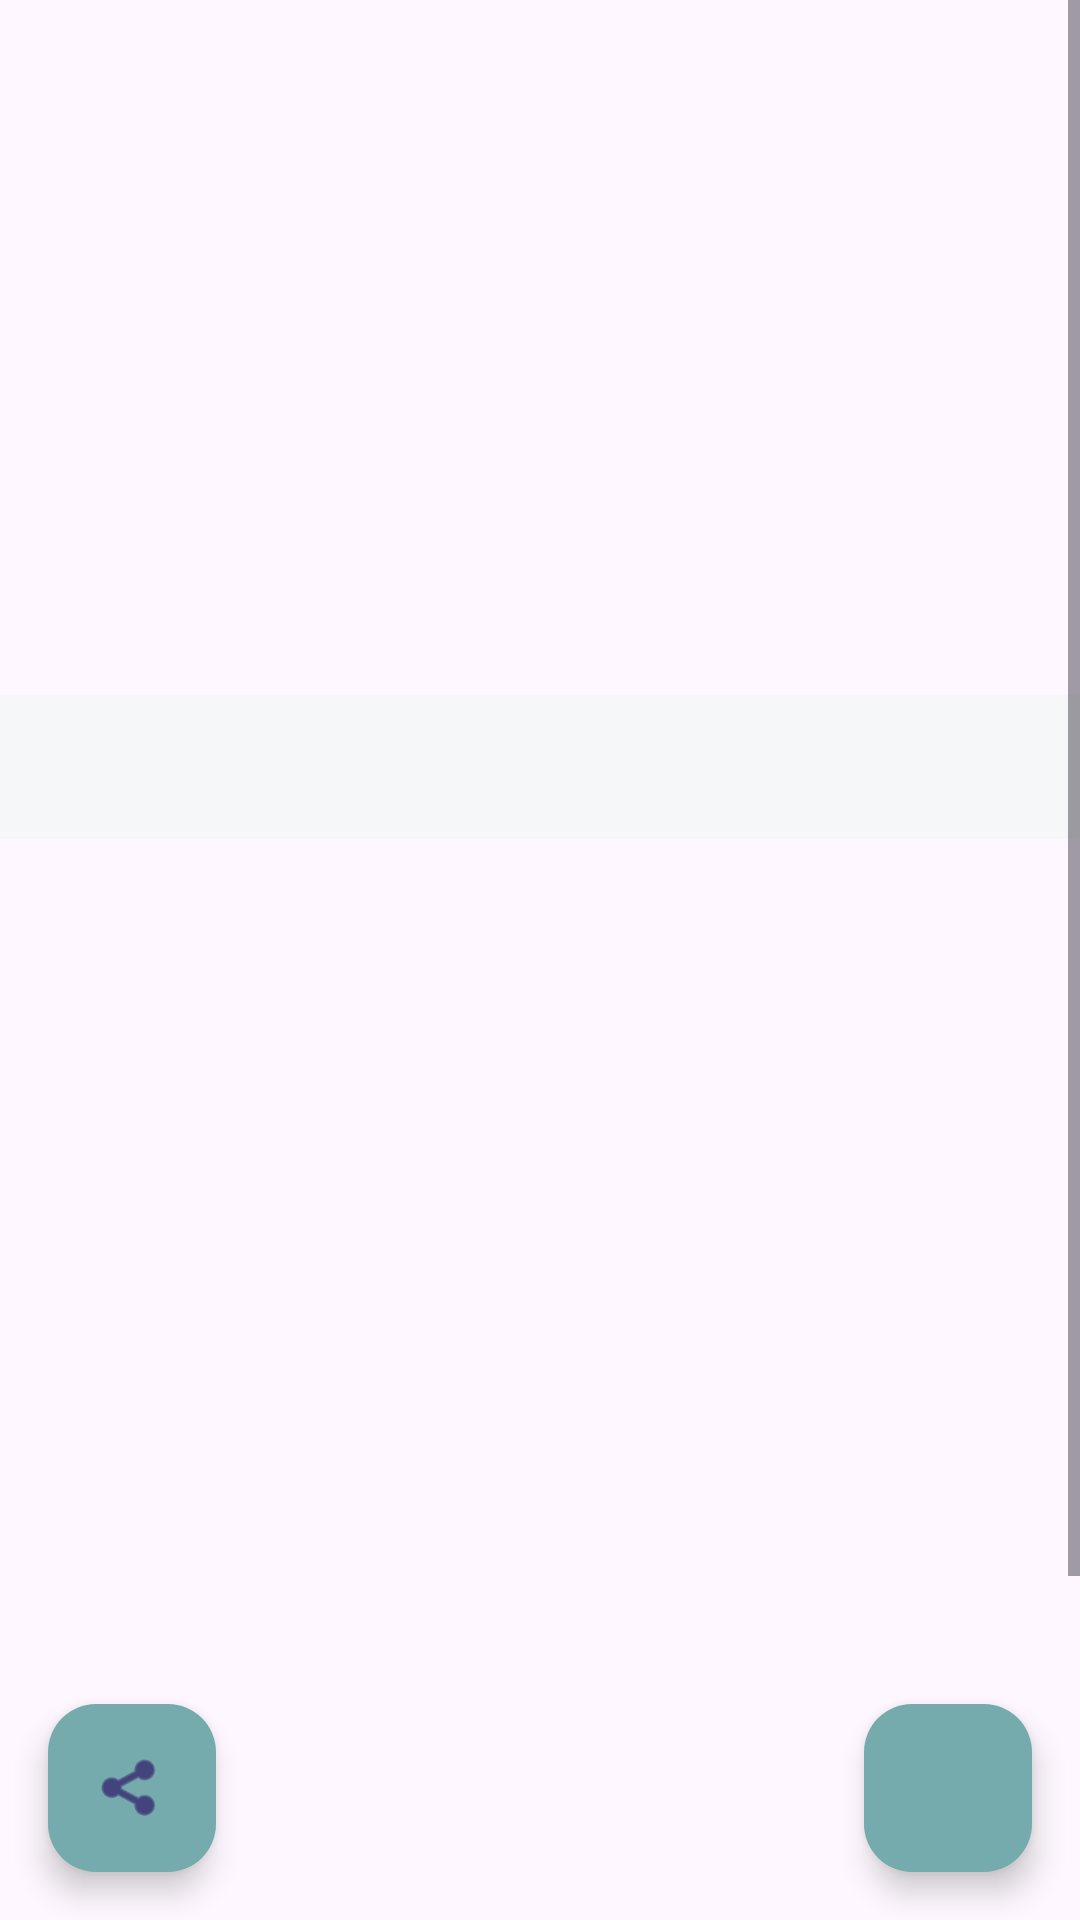

Named icons in this screenshot (1080px x 1920px) and their bounding boxes, (x1, y1, x2, y2):
Share Float Action Button: (48, 1704, 216, 1872)
